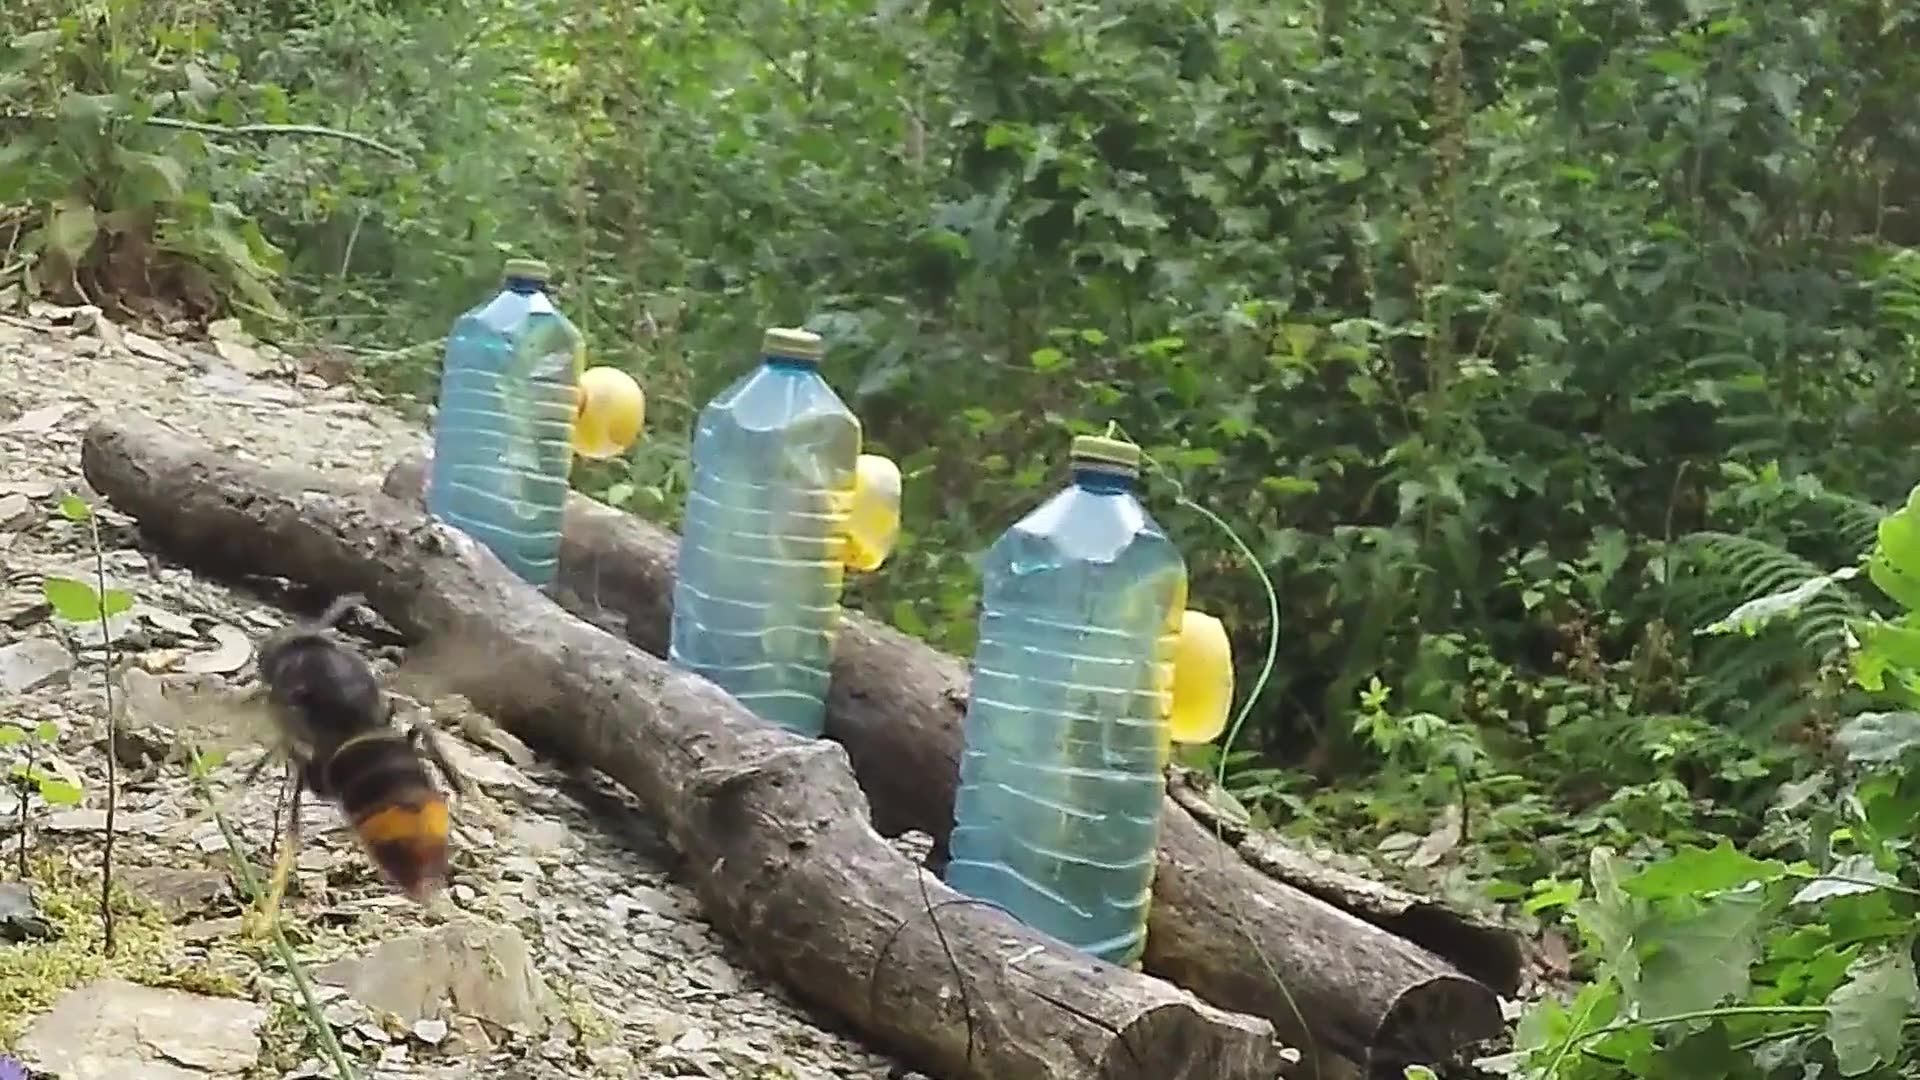hornet: (225, 618, 473, 910)
